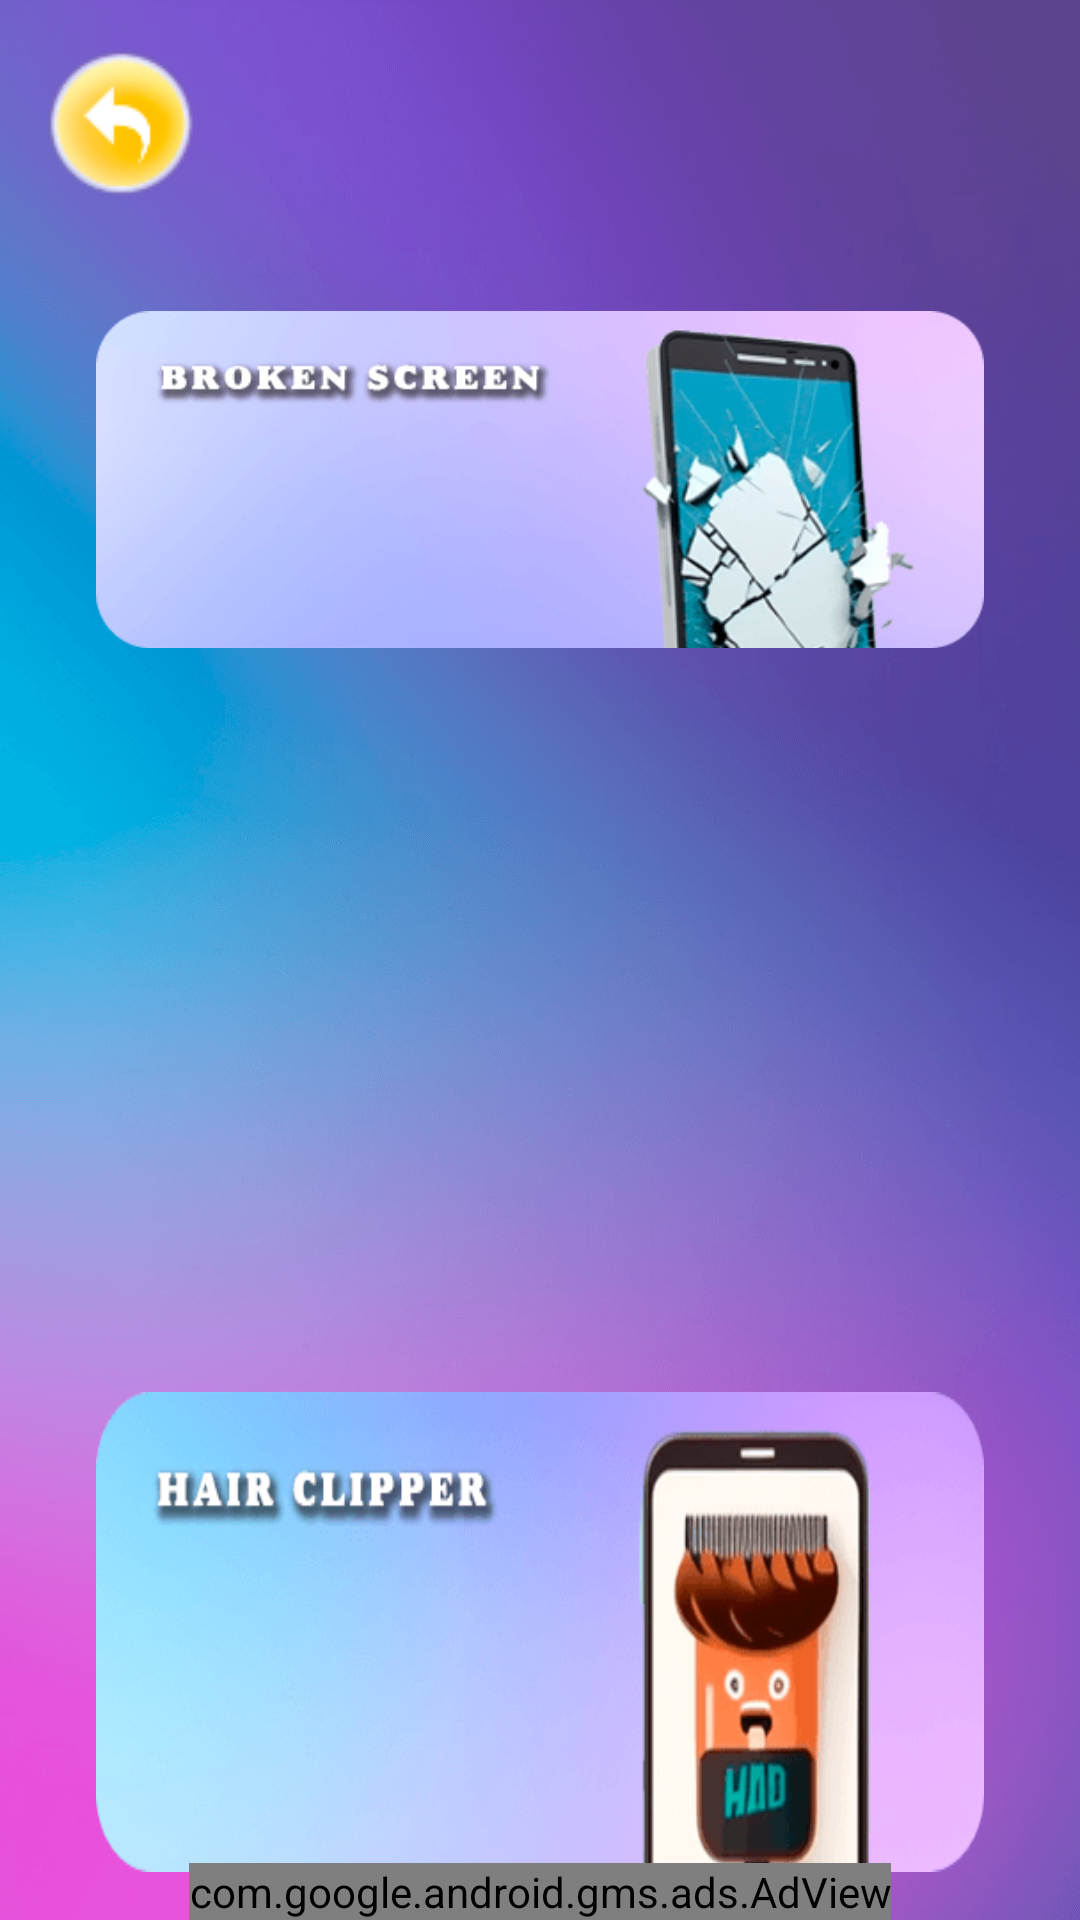

Named icons in this screenshot (1080 × 1920) and their bounding boxes, (x1, y1, x2, y2):
back: (50, 53, 192, 193)
